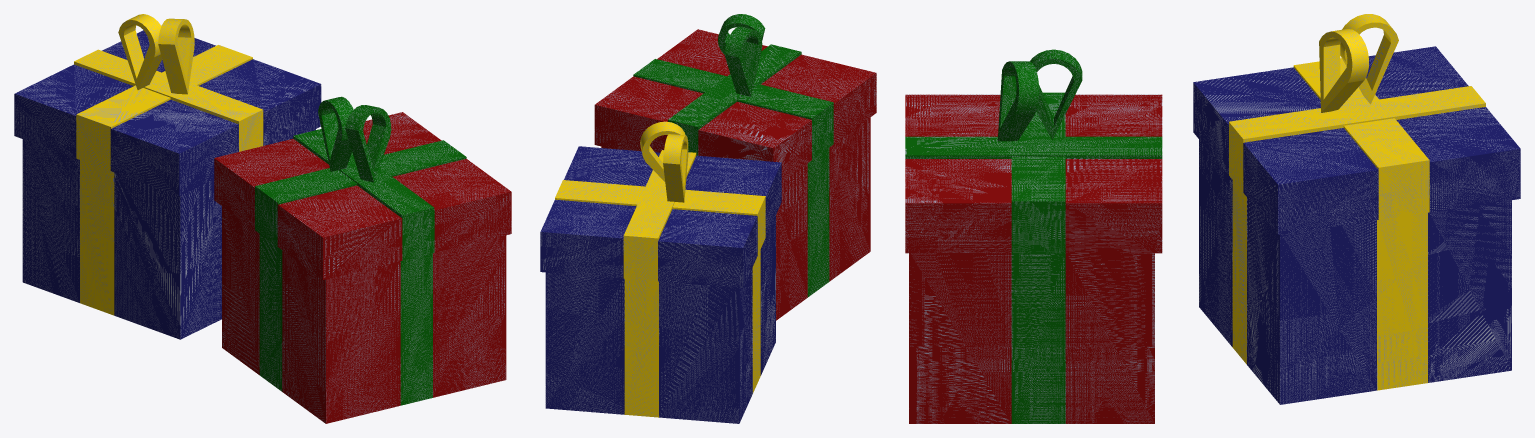
The picture shows the model from 3 angles, left to right: view 1: azimuth 30°, elevation 25°; view 2: azimuth 150°, elevation 25°; view 3: azimuth 270°, elevation 25°; orthographic projection. The views are drawn at different scales.
Visible parts, largest first — view 1: SketchUp (×19); view 2: SketchUp (×16); view 3: SketchUp (×16).
Part boxes in pixels (x1,y1,x2,y2): SketchUp (×19): (14, 14, 511, 423); SketchUp (×16): (540, 14, 876, 423); SketchUp (×16): (905, 14, 1520, 423).
Bounding box in the file's own units: 239 × 396 × 219.
